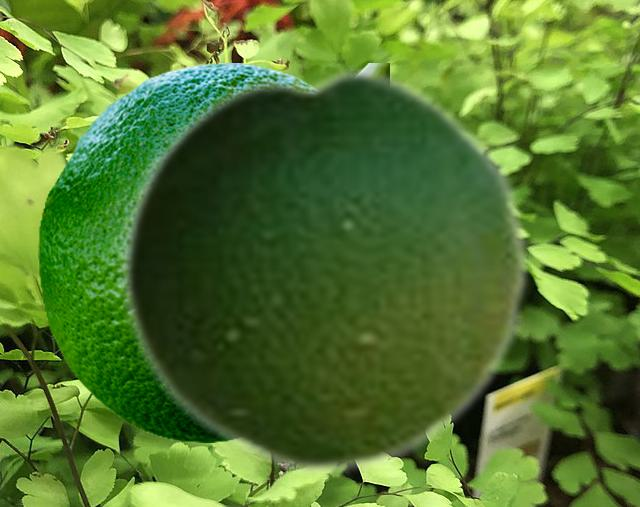dalandan: (117, 61, 530, 479), (38, 63, 388, 441)
